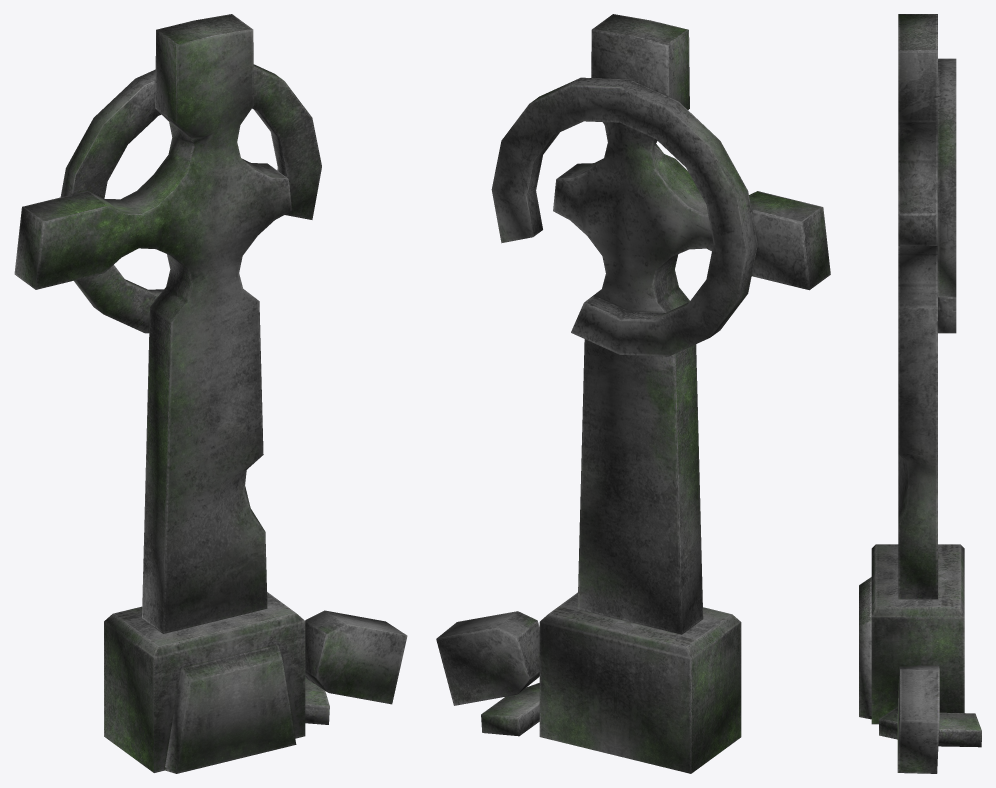
Rendered from cross3.glb.
The picture shows the model from 3 angles, left to right: view 1: azimuth 30°, elevation 25°; view 2: azimuth 150°, elevation 25°; view 3: azimuth 270°, elevation 25°; orthographic projection. The views are drawn at different scales.
Visible parts, largest first — view 1: defaultMaterial; view 2: defaultMaterial; view 3: defaultMaterial.
Part boxes in pixels (bbox=[...]): defaultMaterial: bbox=[14, 14, 407, 773]; defaultMaterial: bbox=[436, 14, 830, 773]; defaultMaterial: bbox=[859, 14, 981, 773].
Bounding box in the file's own units: 1.1 × 2.01 × 0.3383.
Materials: 1 (1 with a texture image).
